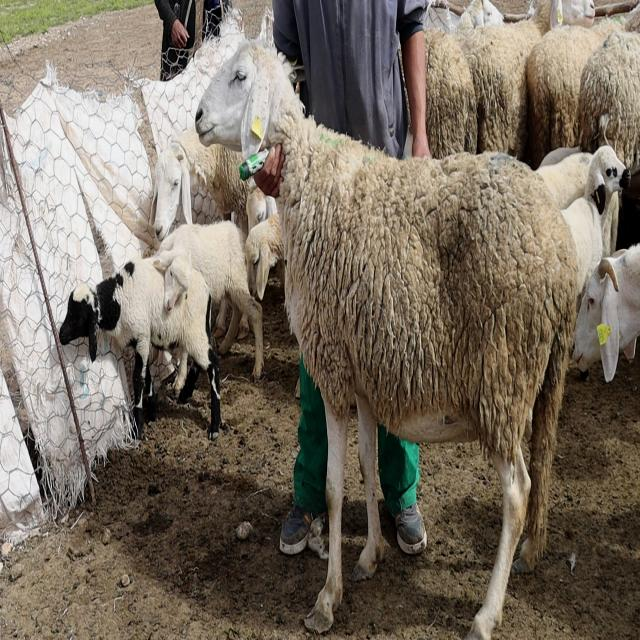Score_3: (196, 41, 584, 639)
